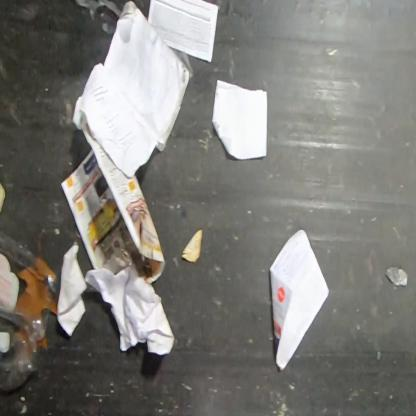rigid_plastic: (0, 230, 61, 395)
